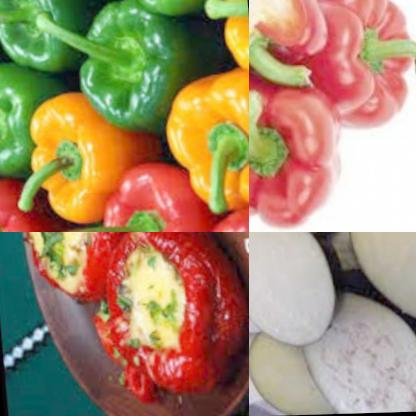bell pepper: (83, 232, 246, 404), (7, 89, 169, 227), (63, 0, 214, 129), (300, 0, 416, 141), (249, 70, 347, 232), (153, 76, 249, 219), (5, 232, 141, 307), (85, 157, 214, 232), (0, 62, 64, 195), (0, 0, 95, 78), (249, 0, 331, 90), (187, 0, 249, 78), (0, 176, 42, 232), (94, 0, 246, 12)
eggplant: (285, 279, 416, 415), (249, 232, 343, 356), (337, 232, 416, 338), (249, 329, 327, 416)
